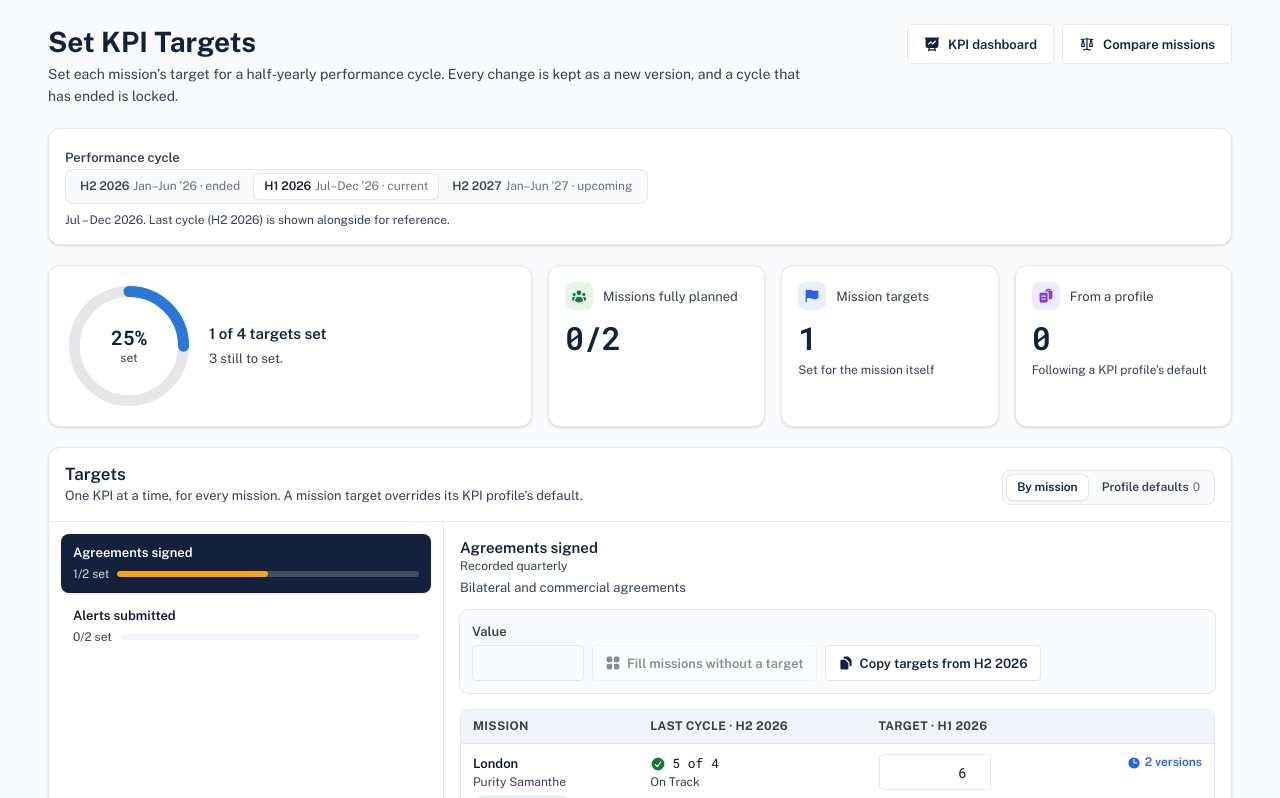
it: SetKpiTargetsPage › TC-FR-KPI-004-D: shows every version of a target, marking the one in force
Click the button with aria-label "Target history for London" at (1164,763), box [1127,754,1202,771]
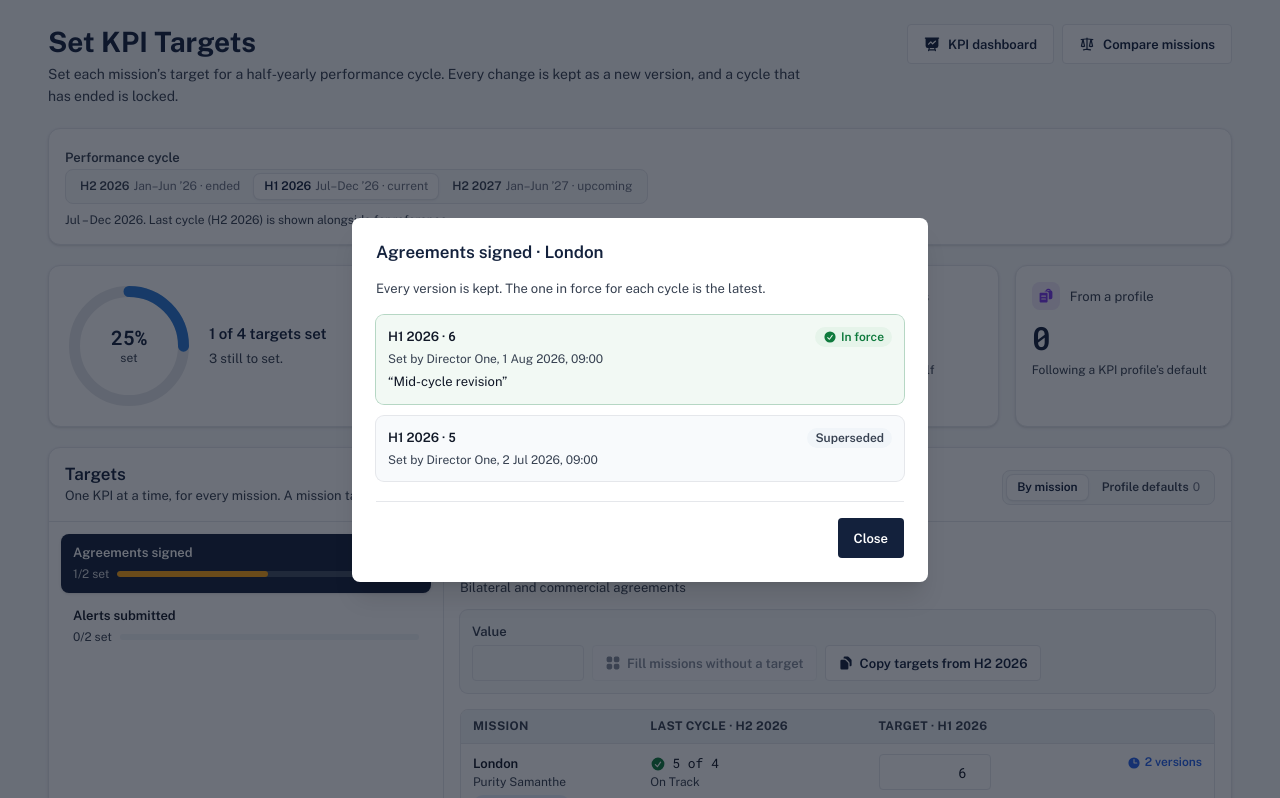
Check: the text "In force" is shown, box [815,326,892,347]
Check: the text "Superseded" is shown, box [807,428,892,448]
Check: the text "“Mid-cycle revision”" is shown, box [388,374,507,389]
